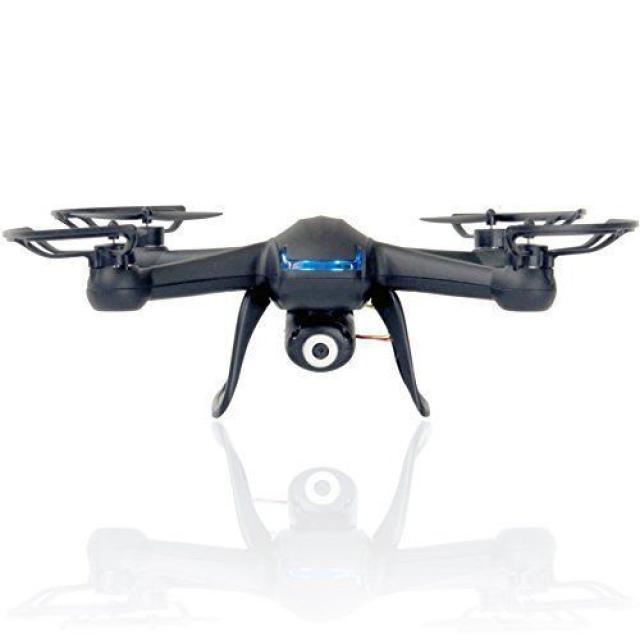drone: (0, 123, 634, 440)
